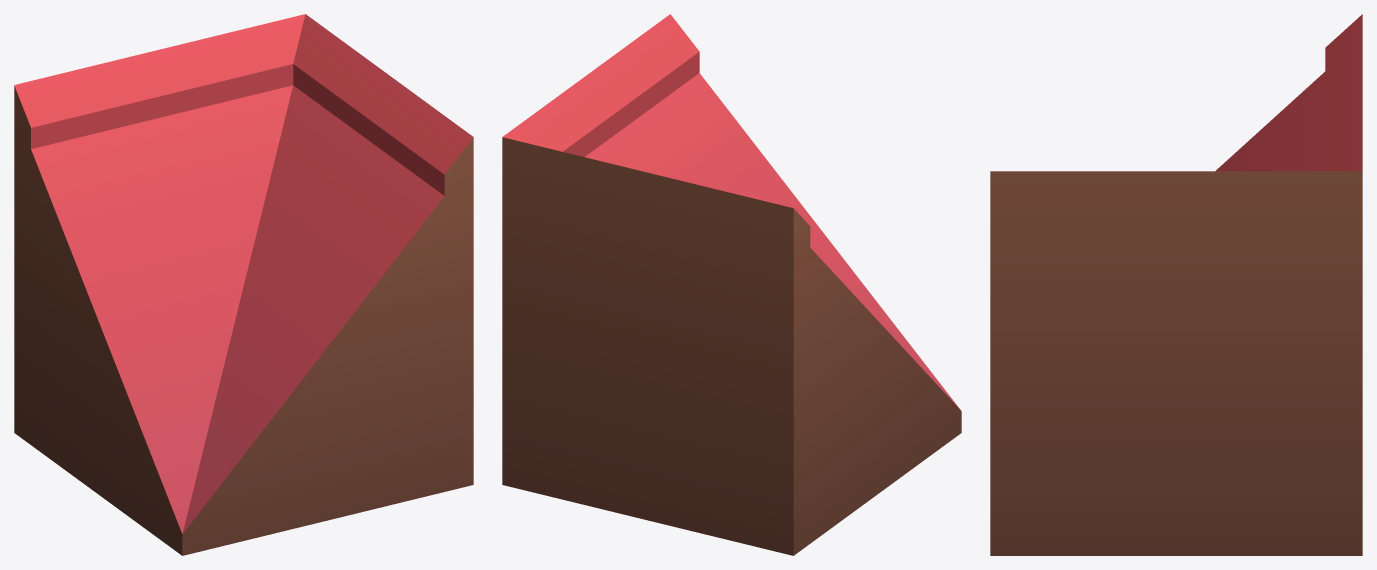
Rendered from roof-high-cornerinner.glb.
3 renders of one model, left to right at view 1: azimuth 30°, elevation 25°; view 2: azimuth 150°, elevation 25°; view 3: azimuth 270°, elevation 25°, orthographic. The views are drawn at different scales.
Visible parts, largest first — view 1: roof-high-cornerinner; view 2: roof-high-cornerinner; view 3: roof-high-cornerinner.
Boxes of the visible parts, x1,y1,x2,y2 form: roof-high-cornerinner: (14,14,473,555); roof-high-cornerinner: (502,14,961,555); roof-high-cornerinner: (990,14,1362,555).
Size of the model in its own units: 1 by 1.14 by 1.
1 material, 1 textured.
